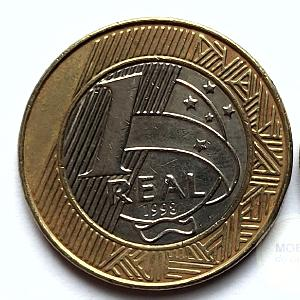1 real: (17, 16, 294, 291)
